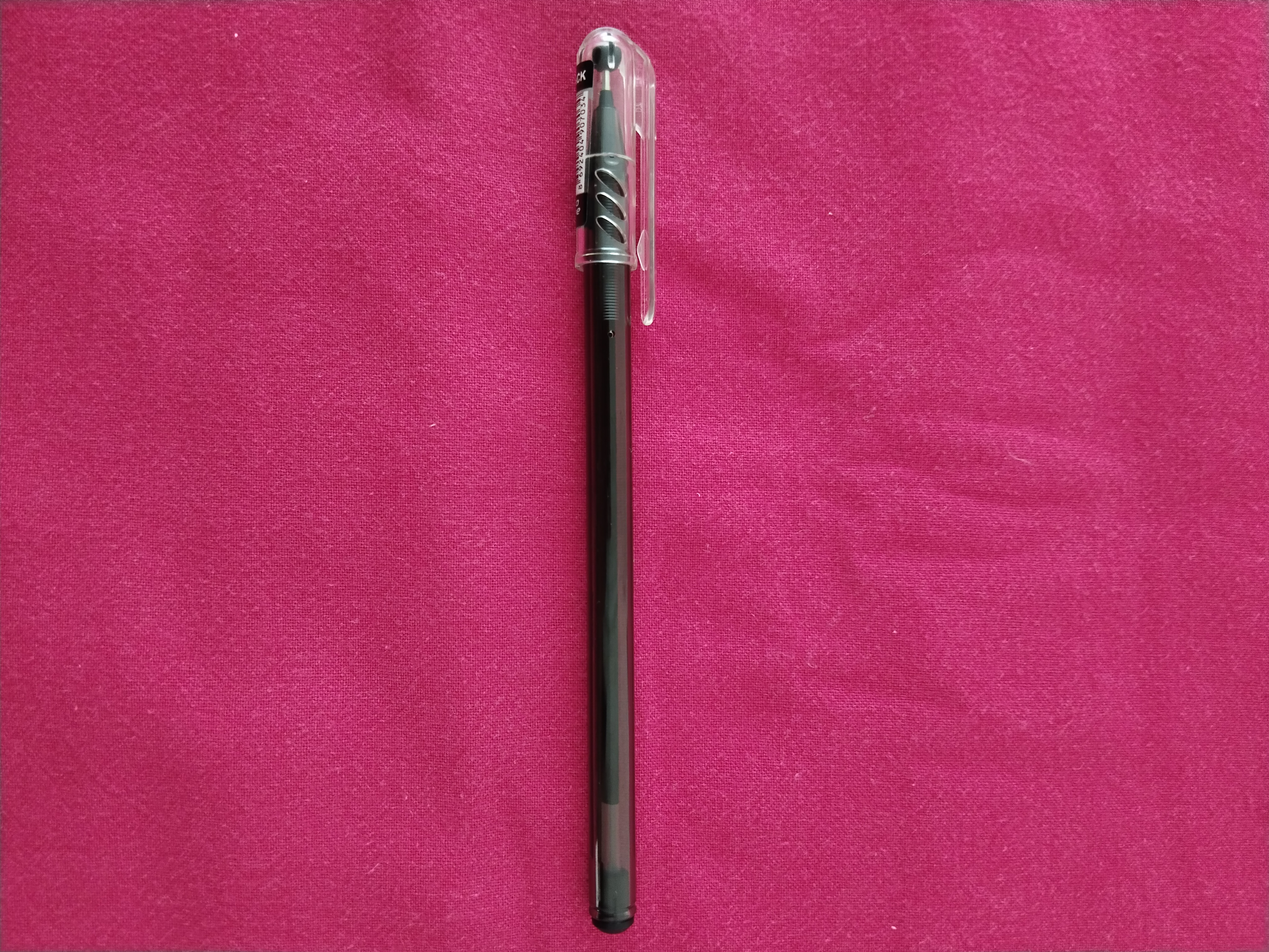pensan_siyah_tukenmez_kalem: (574, 27, 656, 934)
